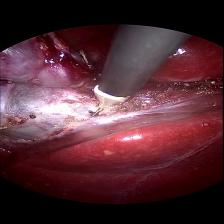Hook: (84, 78, 136, 118)
